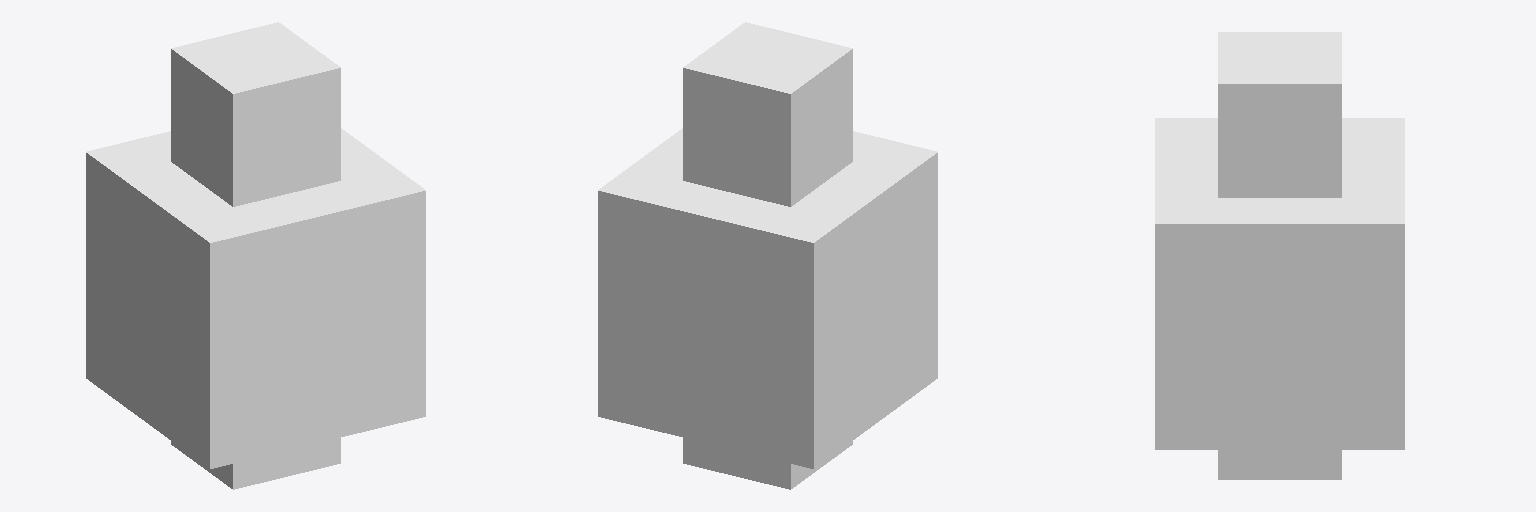
Rendered from GorgonBloodEmpty.obj.
3 renders of one model, left to right at view 1: azimuth 30°, elevation 25°; view 2: azimuth 150°, elevation 25°; view 3: azimuth 270°, elevation 25°, orthographic.
Parts seen in each view (by area): view 1: object 1; view 2: object 1; view 3: object 1.
Boxes of the visible parts, x1,y1,x2,y2 form: object 1: [86, 22, 425, 489]; object 1: [598, 22, 937, 489]; object 1: [1155, 32, 1404, 479].
Bounding box in the file's own units: 0.4 × 0.7 × 0.4.